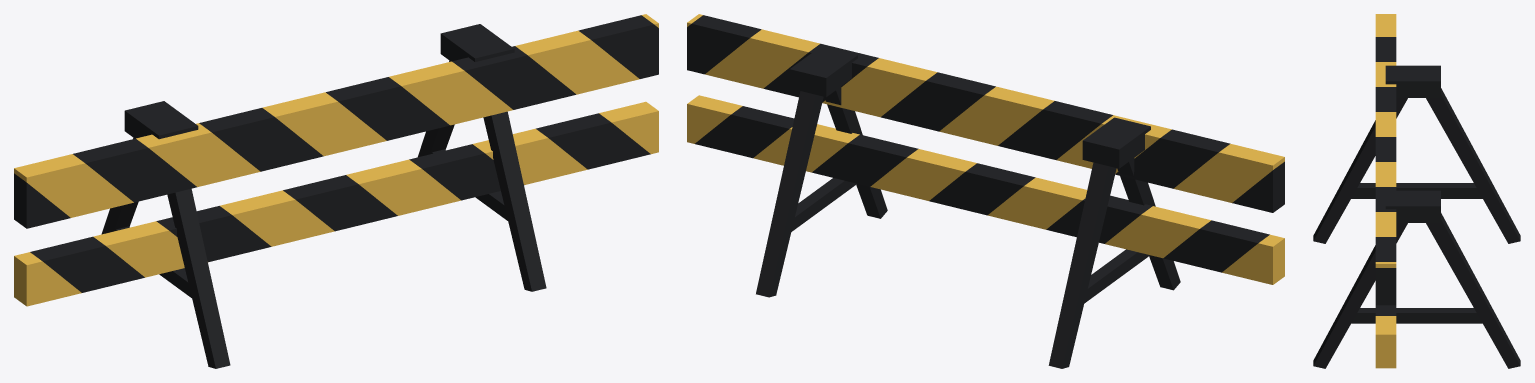
File: sawhorse.glb
The picture shows the model from 3 angles, left to right: view 1: azimuth 30°, elevation 25°; view 2: azimuth 150°, elevation 25°; view 3: azimuth 270°, elevation 25°; orthographic projection. The views are drawn at different scales.
Visible parts, largest first — view 1: sawhorse; view 2: sawhorse; view 3: sawhorse.
Part boxes in pixels (<box>): sawhorse: <box>14,14,658,368</box>; sawhorse: <box>687,14,1284,368</box>; sawhorse: <box>1313,14,1520,368</box>.
Size of the model in its own units: 8 by 2.51 by 2.8.
